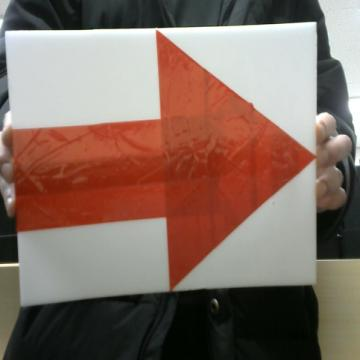red_right: (14, 31, 313, 289)
